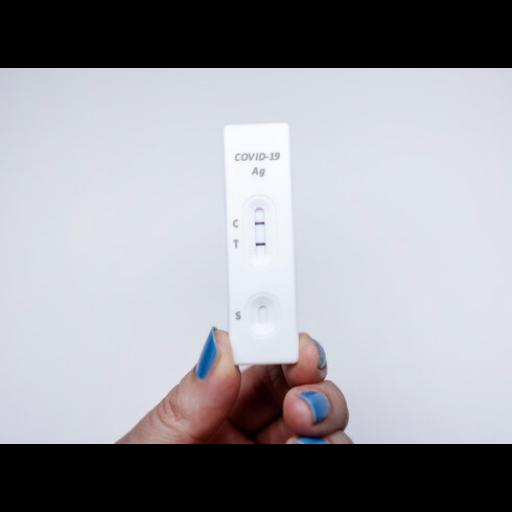Pos: (223, 123, 299, 364)
